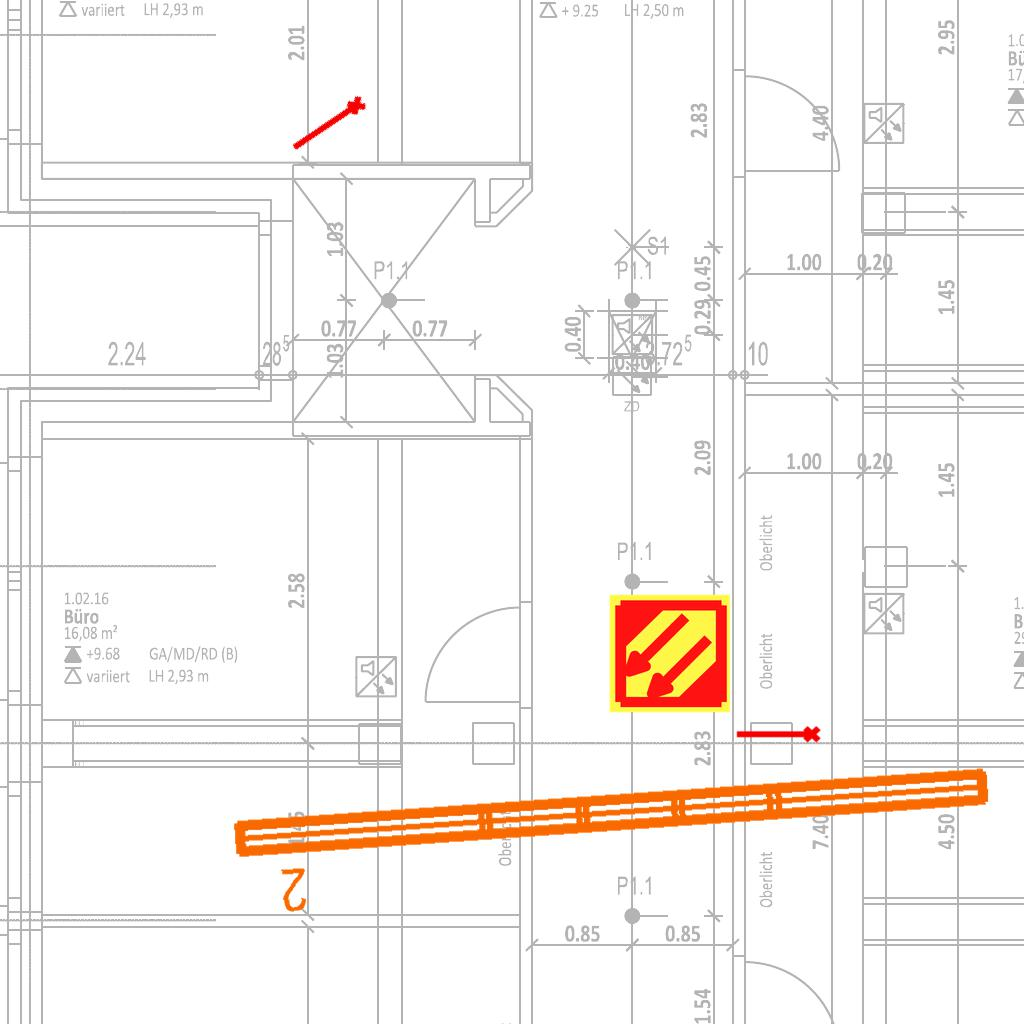ASR_Ansaugoeffnung: (286, 91, 372, 160), (734, 724, 822, 747)
ASR_Ansaugrauchmelder: (607, 591, 732, 716)
Ambulanz_Pendelleuchte_LED: (224, 755, 1004, 921)
